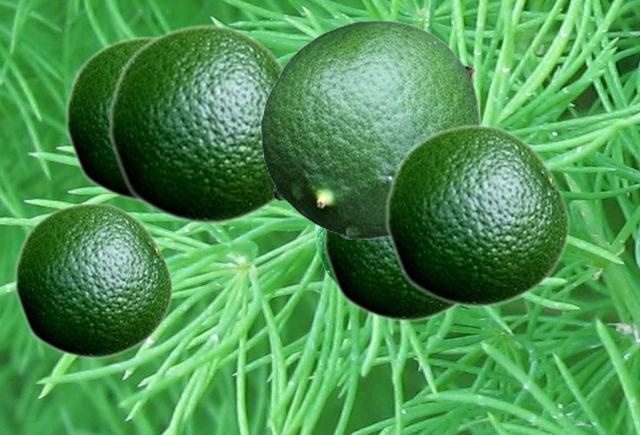calamansi: (260, 19, 480, 238), (107, 23, 283, 225), (384, 123, 570, 308), (13, 201, 173, 359), (64, 35, 154, 202), (322, 229, 459, 322)
